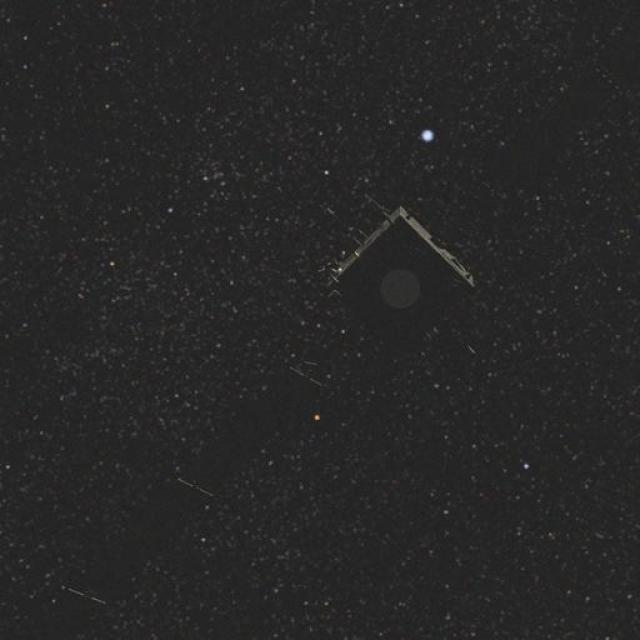smart_1: (275, 149, 574, 439)
